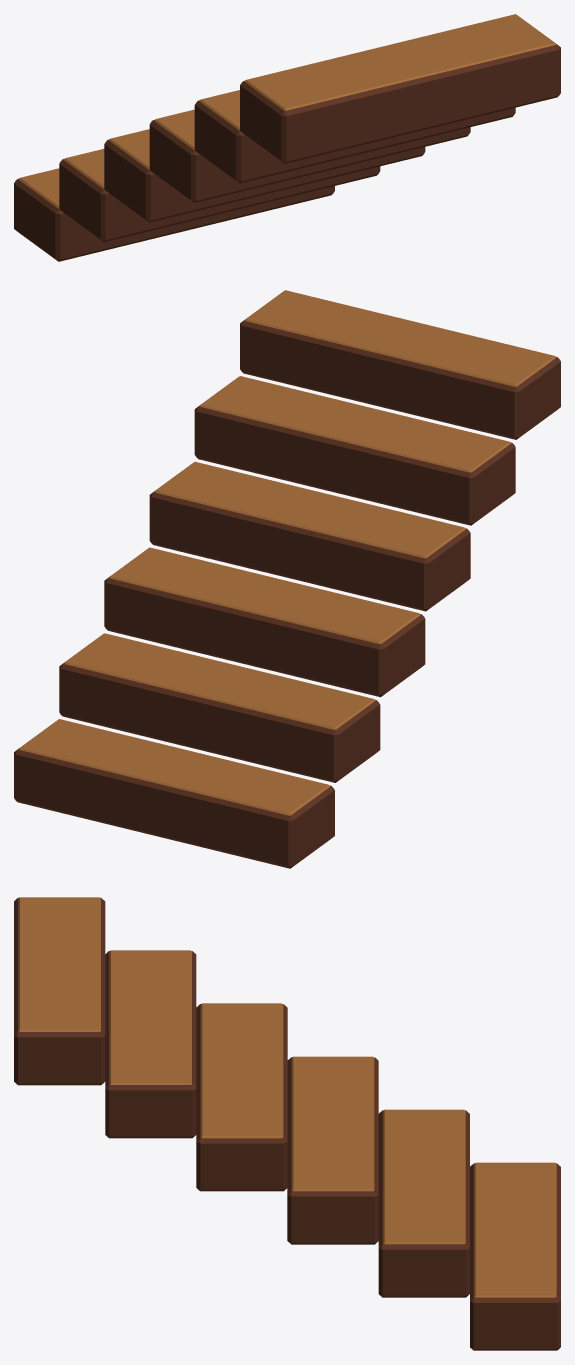
File: stairs.glb
3 views of the same model, one above another, from view 1: azimuth 30°, elevation 25°; view 2: azimuth 150°, elevation 25°; view 3: azimuth 270°, elevation 25° (orthographic).
Parts seen in each view (by area): view 1: Body_mesh; view 2: Body_mesh; view 3: Body_mesh.
Boxes of the visible parts, x1,y1,x2,y2 form: Body_mesh: (14, 14, 560, 261); Body_mesh: (14, 290, 560, 868); Body_mesh: (14, 897, 560, 1350).
Size of the model in its own units: 1 by 1.09 by 1.68.
